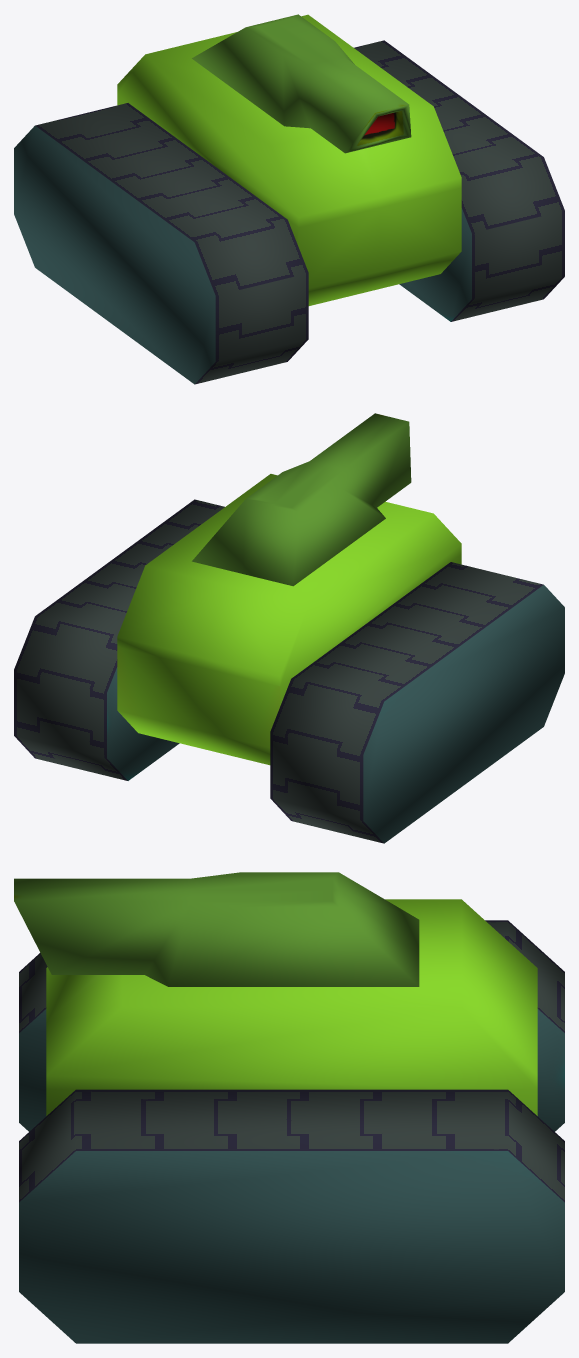
File: tank.glb
3 views of the same model, one above another, from view 1: azimuth 30°, elevation 25°; view 2: azimuth 150°, elevation 25°; view 3: azimuth 270°, elevation 25° (orthographic). The views are drawn at different scales.
Visible parts, largest first — view 1: tank; view 2: tank; view 3: tank.
Part boxes in pixels (left/top/right/bottom): tank: left=14, top=14, right=564, bottom=384; tank: left=14, top=413, right=564, bottom=843; tank: left=14, top=872, right=564, bottom=1343.
Bounding box in the file's own units: 1 × 0.6839 × 1.01.
Materials: 3 (3 with a texture image).
